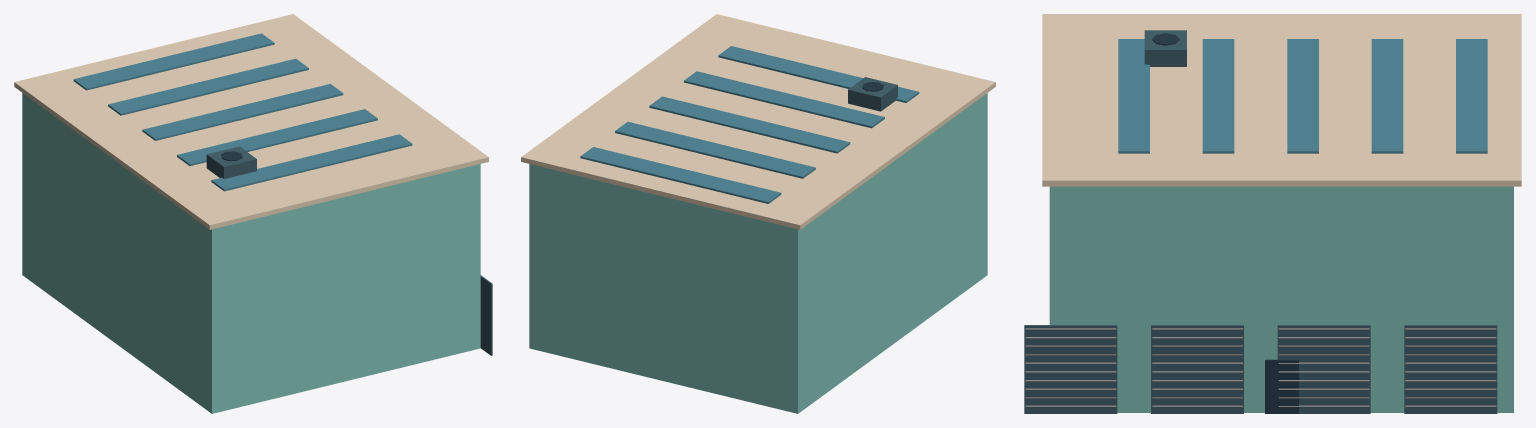
Rendered from building-warehouse.obj.
3 renders of one model, left to right at view 1: azimuth 30°, elevation 25°; view 2: azimuth 150°, elevation 25°; view 3: azimuth 270°, elevation 25°, orthographic. The views are drawn at different scales.
Parts seen in each view (by area): view 1: building-warehouse; view 2: building-warehouse; view 3: building-warehouse.
Boxes of the visible parts, left/top/right/bottom form: building-warehouse: left=14, top=14, right=492, bottom=413; building-warehouse: left=521, top=14, right=995, bottom=413; building-warehouse: left=1024, top=14, right=1521, bottom=413.
Size of the model in its own units: 18.7 by 13.26 by 23.55.
